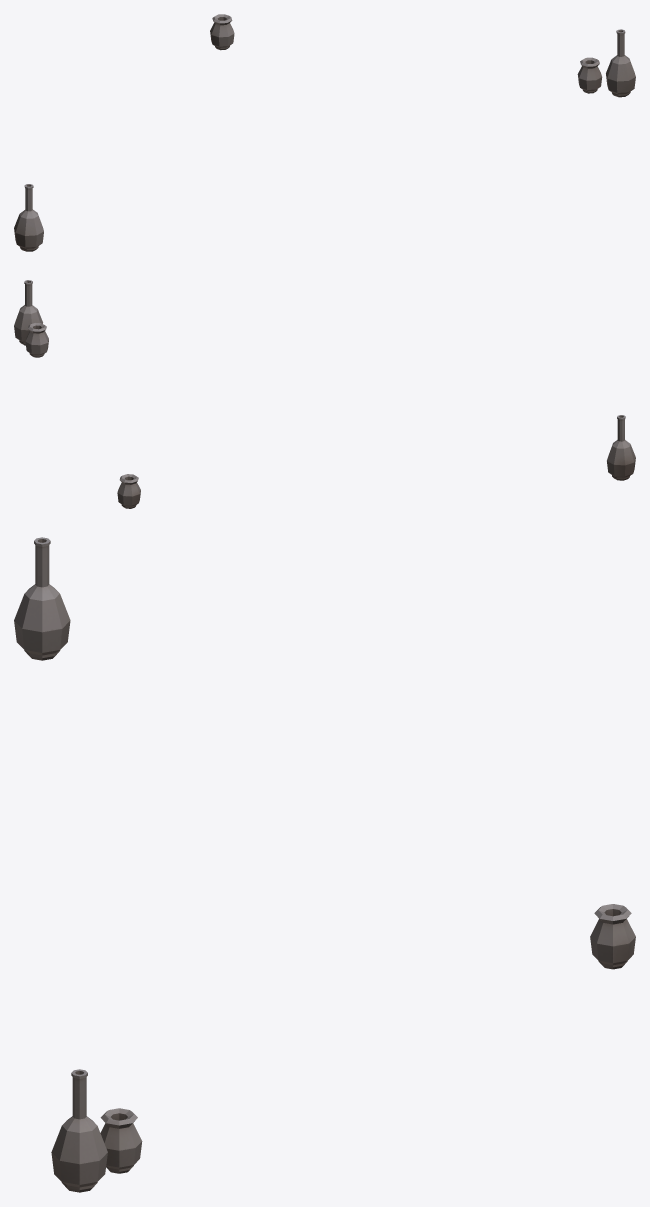
3 renders of one model, top to bottom at view 1: azimuth 30°, elevation 25°; view 2: azimuth 150°, elevation 25°; view 3: azimuth 270°, elevation 25°, orthographic. The views are drawn at different scales.
Parts seen in each view (by area): view 1: Ob_01; view 2: Ob_01; view 3: Ob_01.
Boxes of the visible parts, bbox=[...] form: Ob_01: bbox=[14, 14, 635, 251]; Ob_01: bbox=[14, 280, 635, 508]; Ob_01: bbox=[14, 537, 635, 1192].
Bounding box in the file's own units: 19.89 × 1.9 × 9.41.
